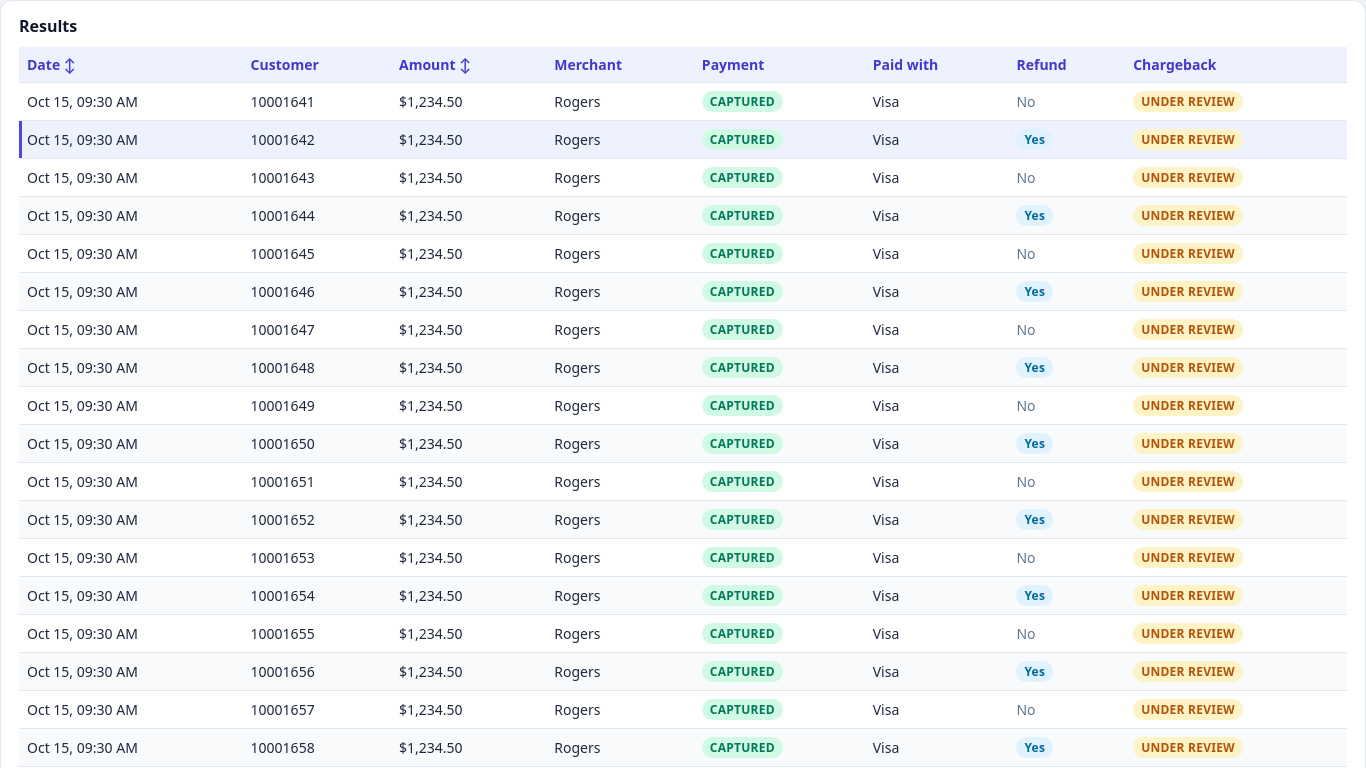
Test case: summary bar and detail popup › opens from the keyboard and closes with the button or the backdrop
Press Enter
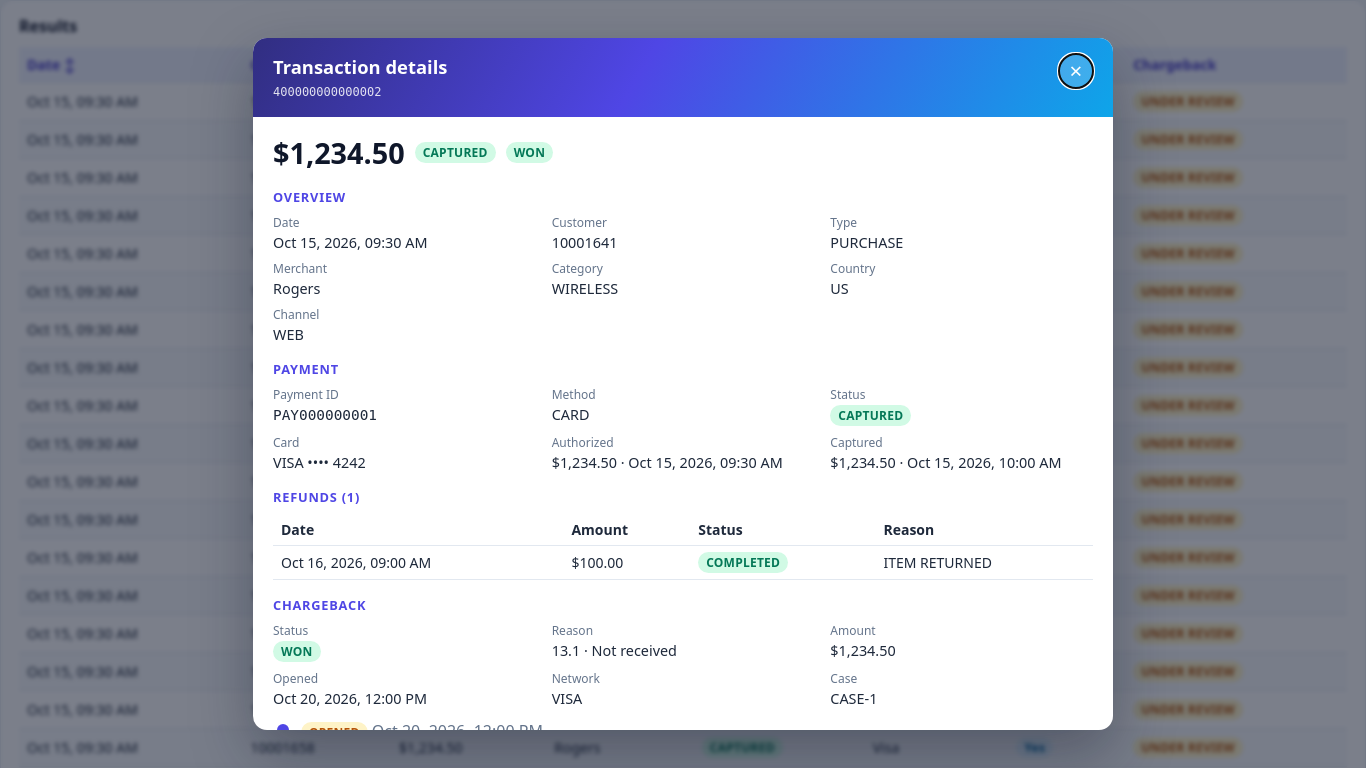
Click the button named "Close" at (1076, 71), box [1059, 54, 1093, 88]
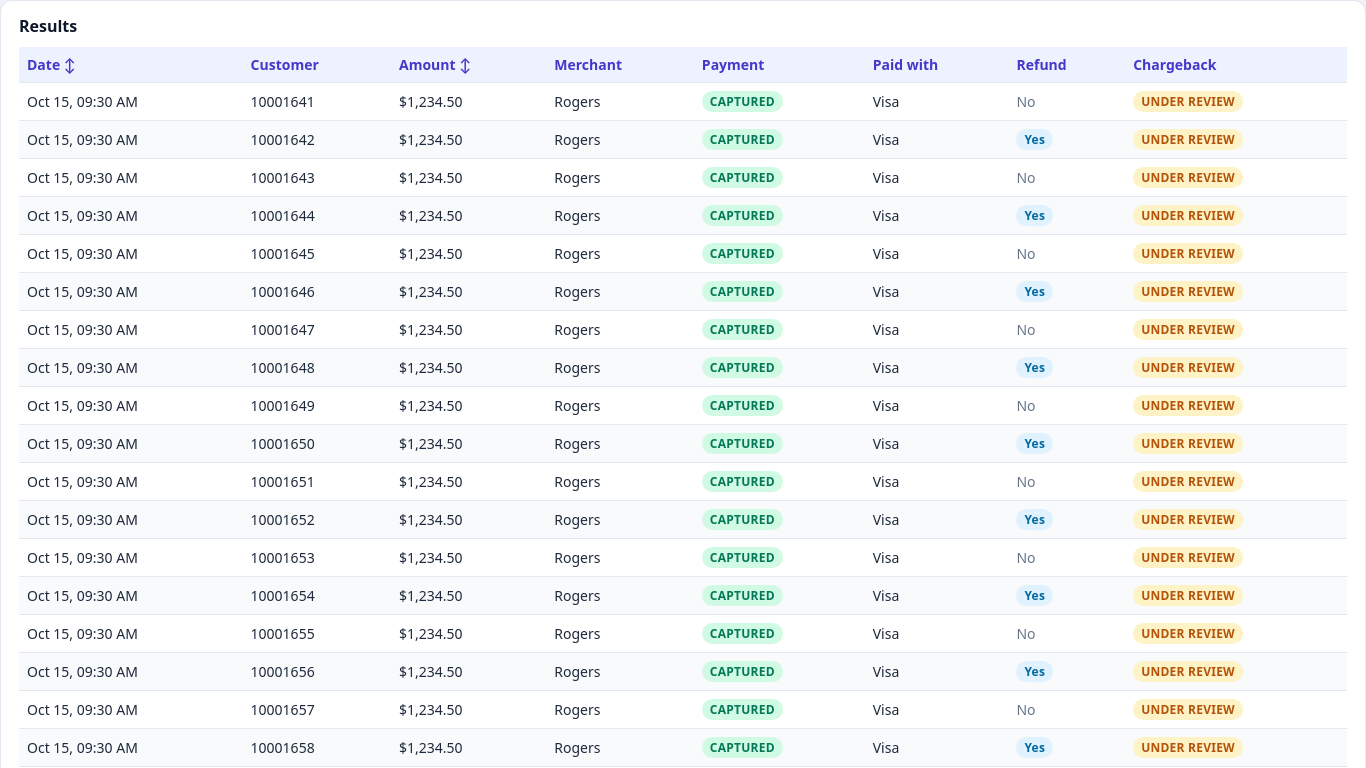
Check: the dialog is gone
Click the row named "Open details for transaction 400000000000001" at (683, 102), box [19, 82, 1347, 120]
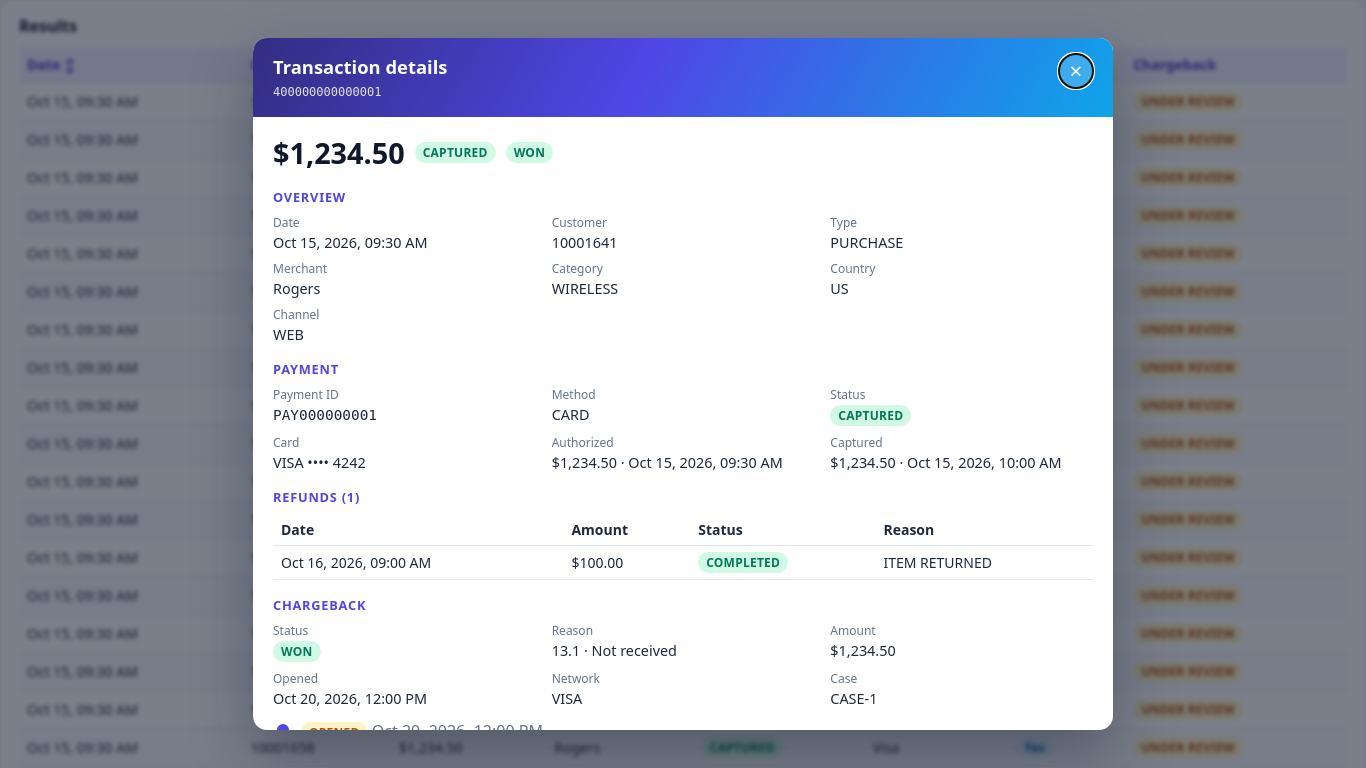
Check: the dialog is shown, box [253, 38, 1113, 730]
Click the element with test id "dialog-backdrop" at (82, 384), box [0, 0, 1365, 767]
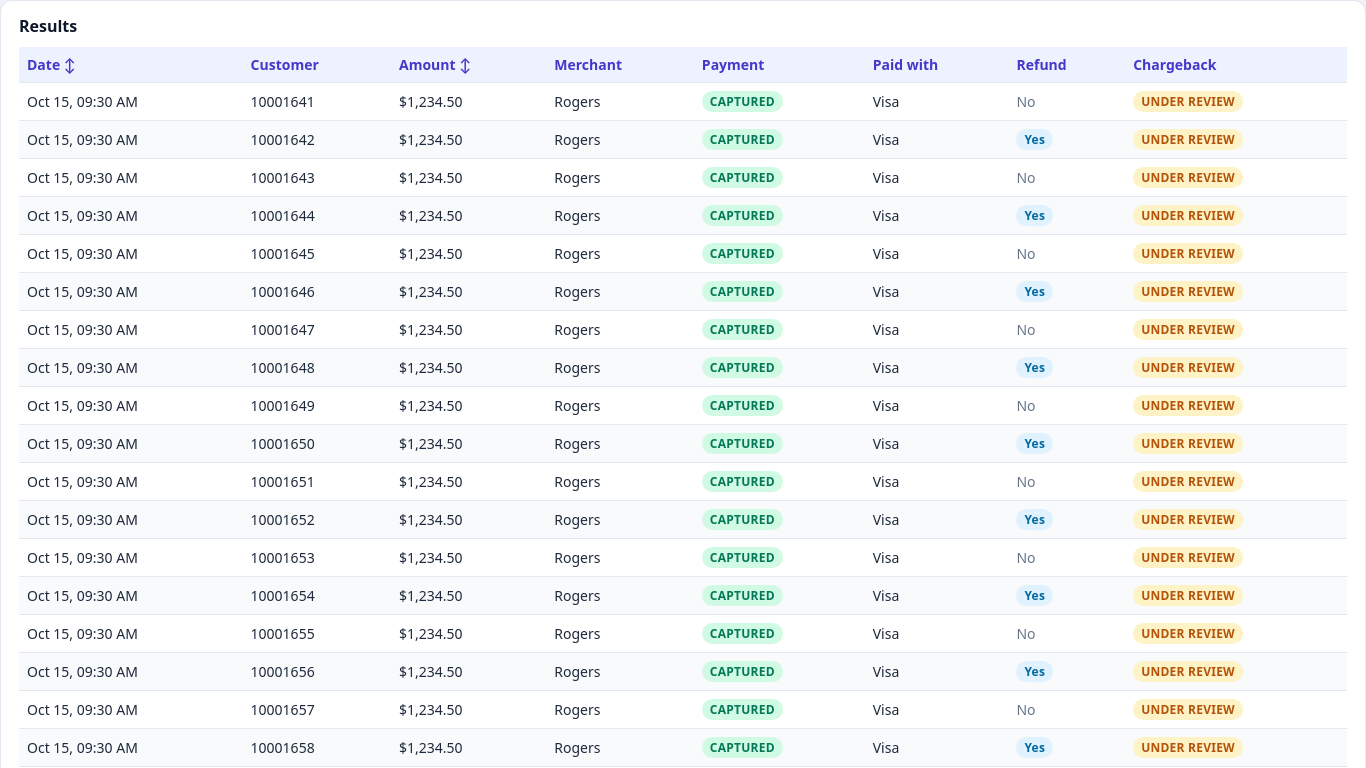
Check: the dialog is gone
